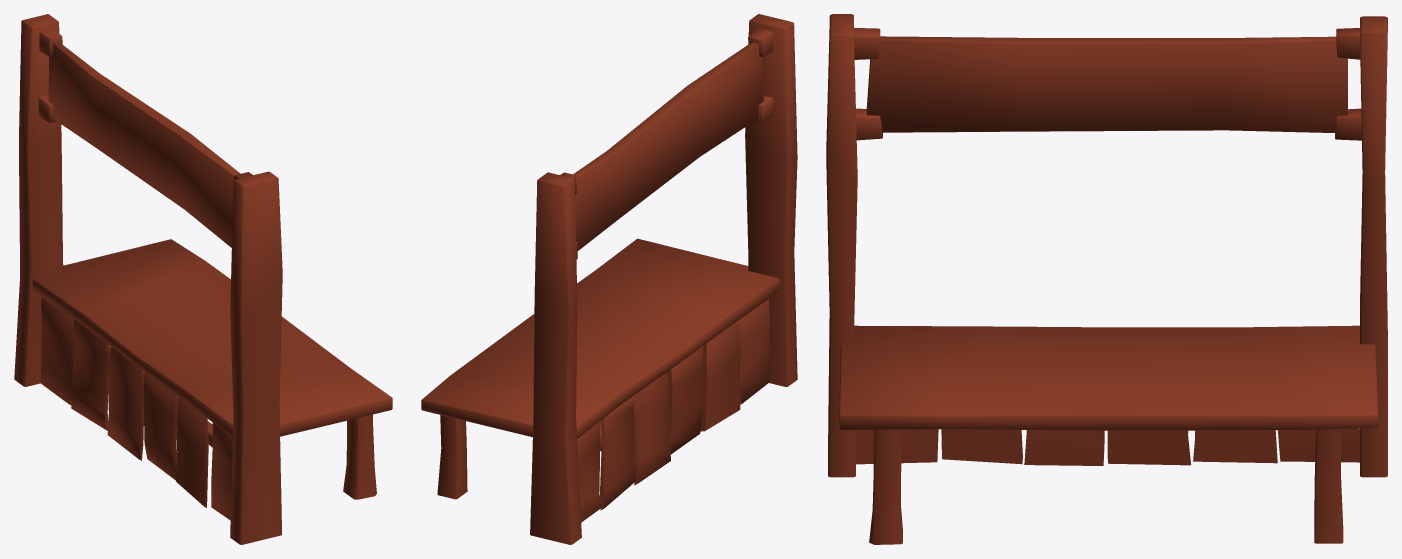
File: kiosk00 (1).fbx
3 views of the same model, side by side, from view 1: azimuth 30°, elevation 25°; view 2: azimuth 150°, elevation 25°; view 3: azimuth 270°, elevation 25° (orthographic). The views are drawn at different scales.
Parts seen in each view (by area): view 1: Kiosk; view 2: Kiosk; view 3: Kiosk.
Boxes of the visible parts, x1,y1,x2,y2 form: Kiosk: (14, 14, 392, 544); Kiosk: (421, 14, 797, 544); Kiosk: (826, 14, 1387, 544).
Bounding box in the file's own units: 240 × 525 × 602.
